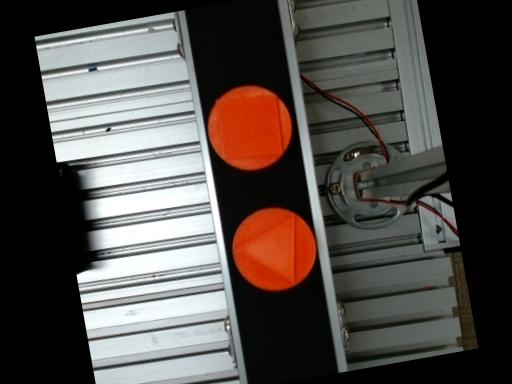Not_Square: (231, 214, 294, 285)
Orange_Waper: (207, 84, 291, 170), (231, 206, 315, 290)
Square: (216, 94, 282, 159)
